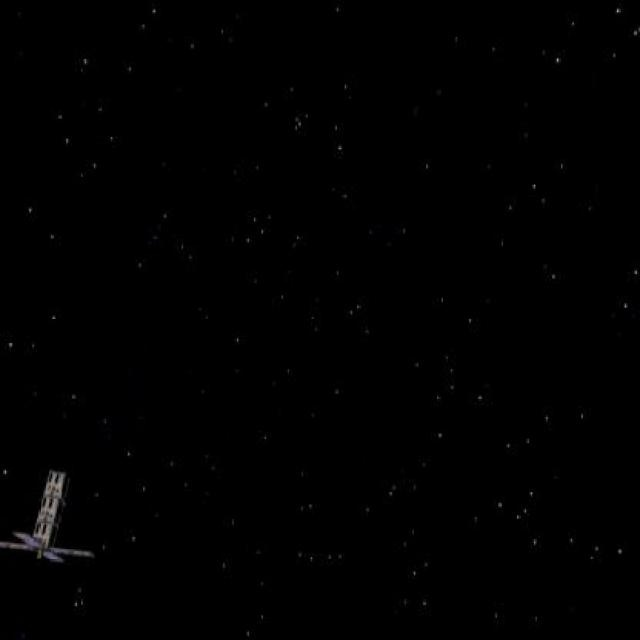medium_debris: (0, 463, 112, 577)
